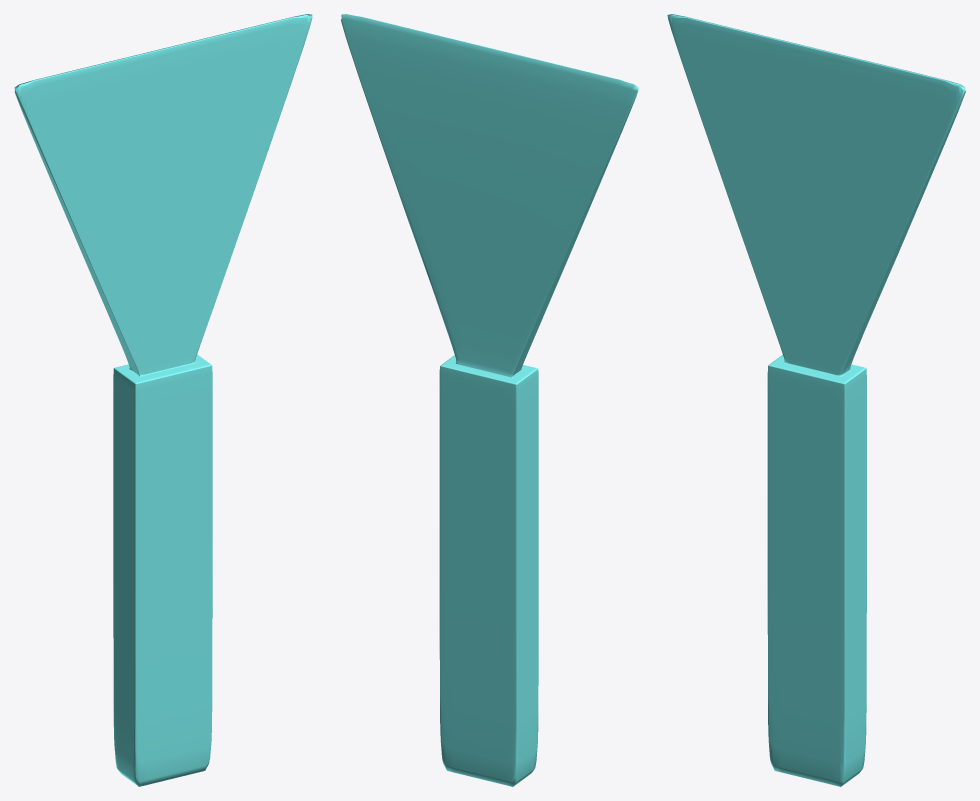
Rendered from SpatulaDiamond.fbx.
3 renders of one model, left to right at view 1: azimuth 30°, elevation 25°; view 2: azimuth 150°, elevation 25°; view 3: azimuth 330°, elevation 25°, orthographic.
Parts seen in each view (by area): view 1: pasted__pasted__HighPoly2; view 2: pasted__pasted__HighPoly2; view 3: pasted__pasted__HighPoly2.
Boxes of the visible parts, x1,y1,x2,y2 form: pasted__pasted__HighPoly2: [14, 14, 312, 786]; pasted__pasted__HighPoly2: [341, 14, 638, 786]; pasted__pasted__HighPoly2: [667, 14, 965, 786].
Bounding box in the file's own units: 7.69 × 17.84 × 1.
